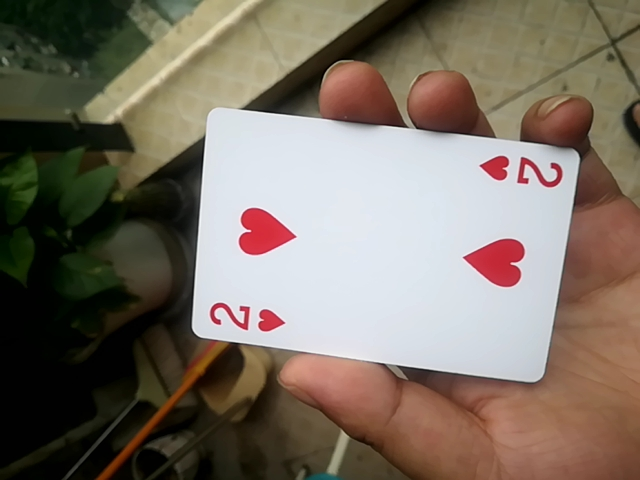hx 2: (184, 104, 576, 383)
